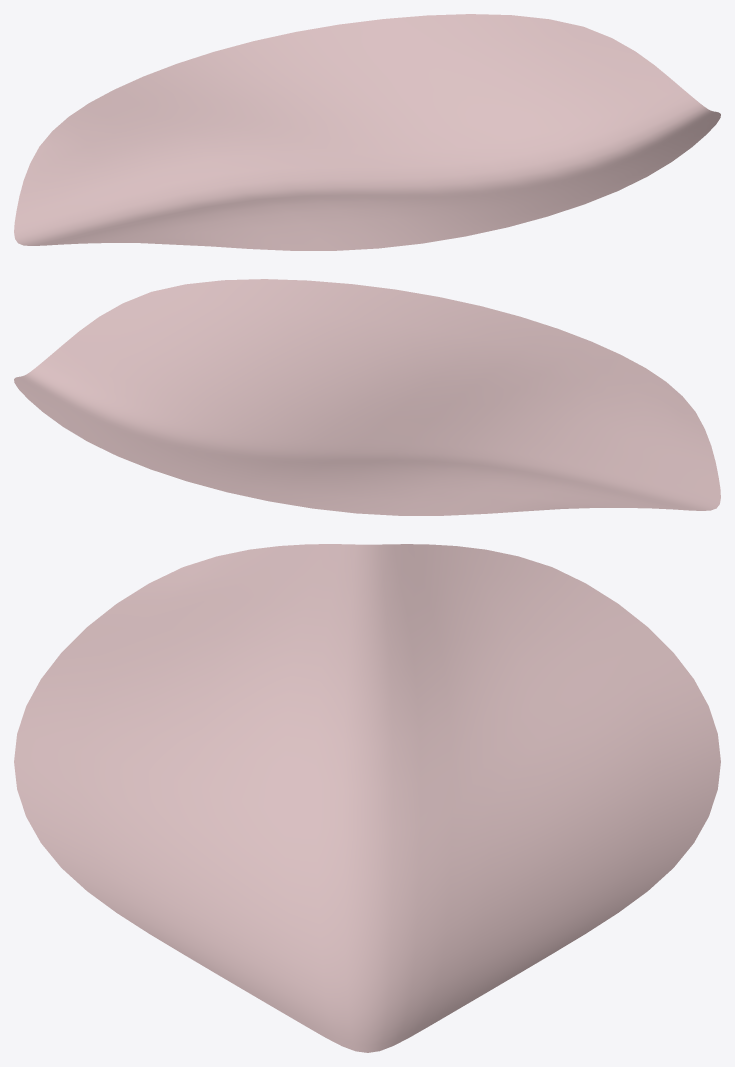
The model's file is sakura-petal.glb.
3 views of the same model, one above another, from view 1: azimuth 30°, elevation 25°; view 2: azimuth 150°, elevation 25°; view 3: azimuth 270°, elevation 25° (orthographic). The views are drawn at different scales.
Parts seen in each view (by area): view 1: sakura-petal; view 2: sakura-petal; view 3: sakura-petal.
Part boxes in pixels (<box>): sakura-petal: <box>14,14,720,250</box>; sakura-petal: <box>14,279,720,515</box>; sakura-petal: <box>14,544,720,1052</box>.
Bounding box in the file's own units: 0.7263 × 0.0846 × 0.4662.
